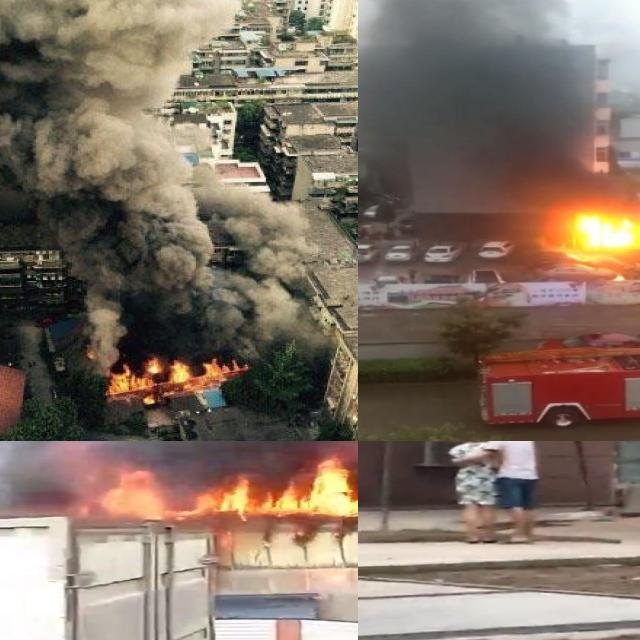fire: (93, 459, 358, 517), (103, 351, 241, 399), (559, 203, 640, 252)
smoke: (0, 0, 309, 347), (358, 0, 633, 196)
